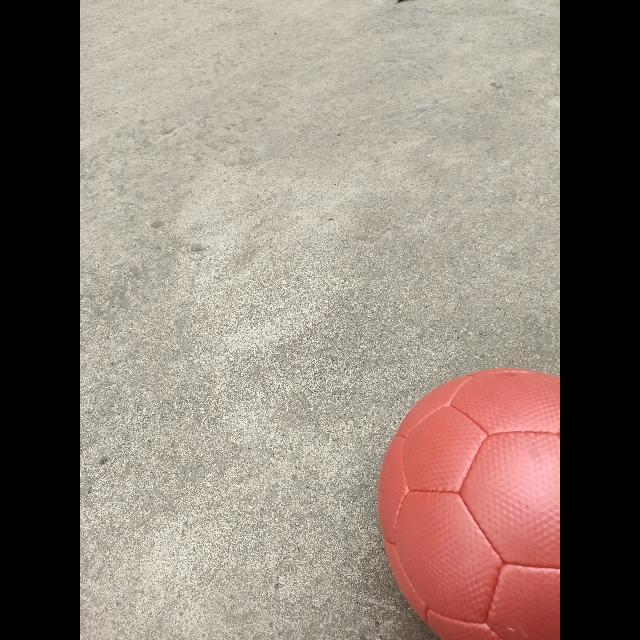R: (377, 369, 559, 639)
